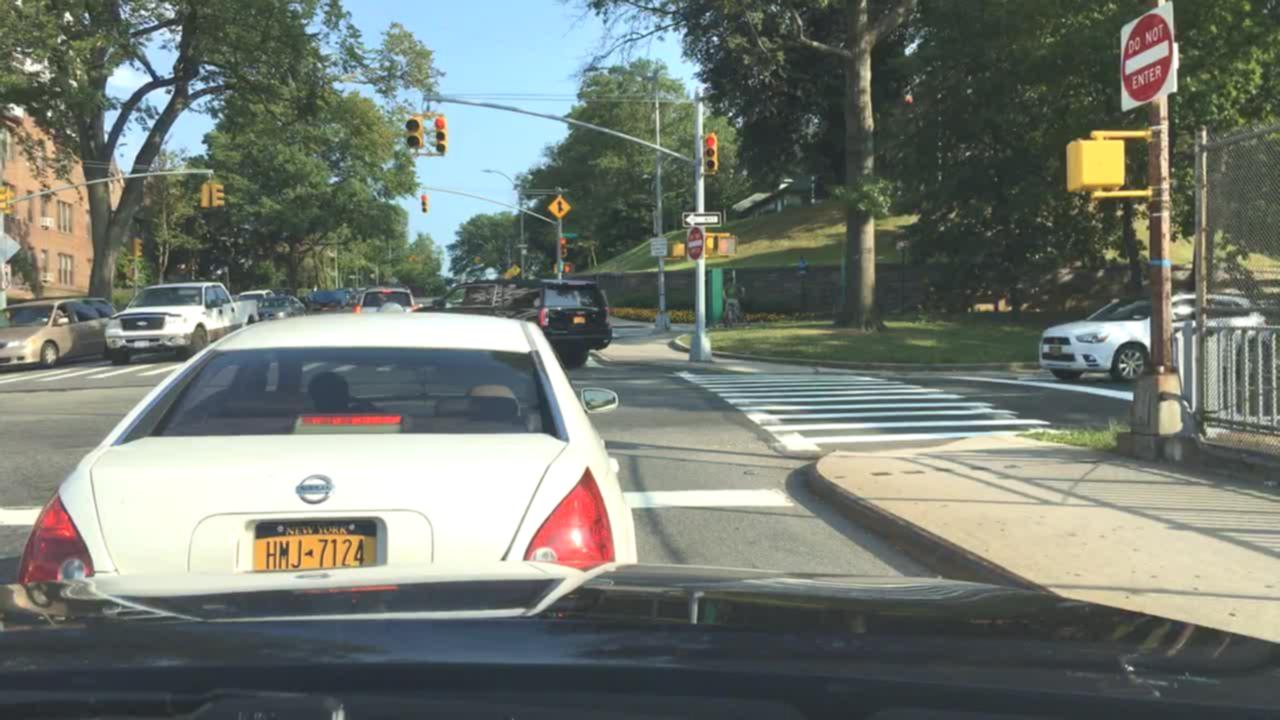Nissan: (278, 468, 358, 521)
